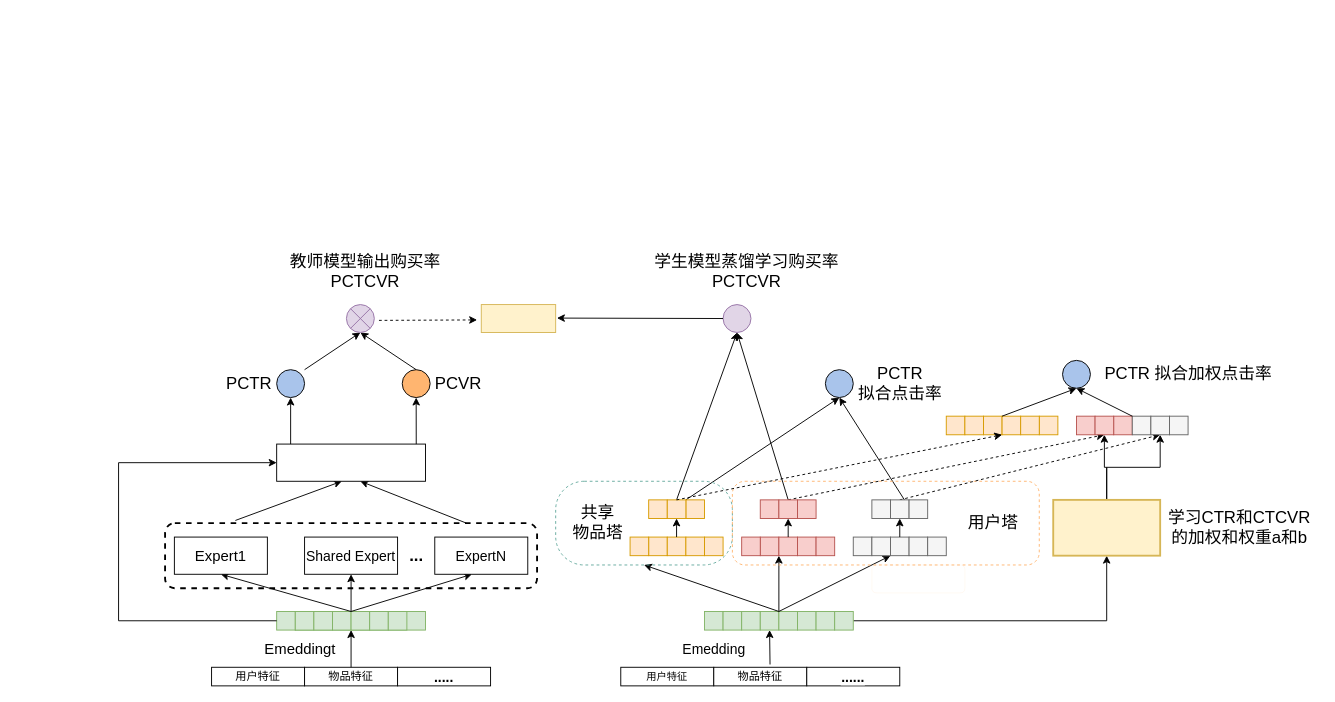
Image size: 1335x702. Some labels were removed from this diagram. The shapes that lost their labels are listed below. From the top down, each one's centre as x and y in pixels, then its label:
At point (518, 318): "KL Loss".
At point (350, 462): "MultigateMerge".
At point (1106, 527): "用户偏好学习子模型".
